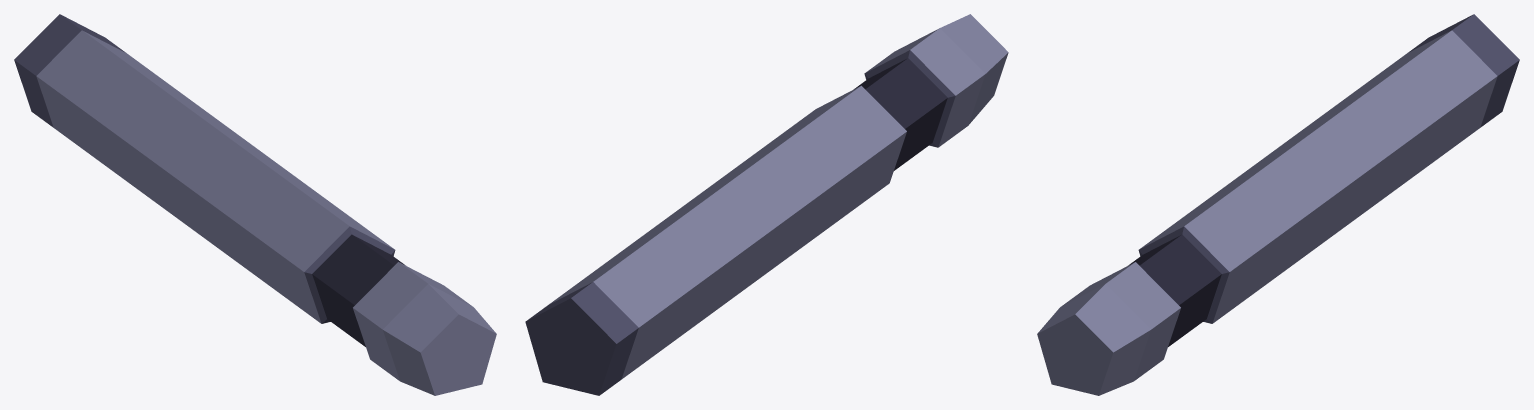
File: Pen.fbx
3 views of the same model, side by side, from view 1: azimuth 30°, elevation 25°; view 2: azimuth 150°, elevation 25°; view 3: azimuth 330°, elevation 25° (orthographic).
Parts seen in each view (by area): view 1: Pen; view 2: Pen; view 3: Pen.
Part boxes in pixels (x1,y1,x2,y2): Pen: [14, 14, 496, 395]; Pen: [525, 14, 1008, 395]; Pen: [1037, 14, 1519, 395].
Bounding box in the file's own units: 4.58 × 4.36 × 34.69.
